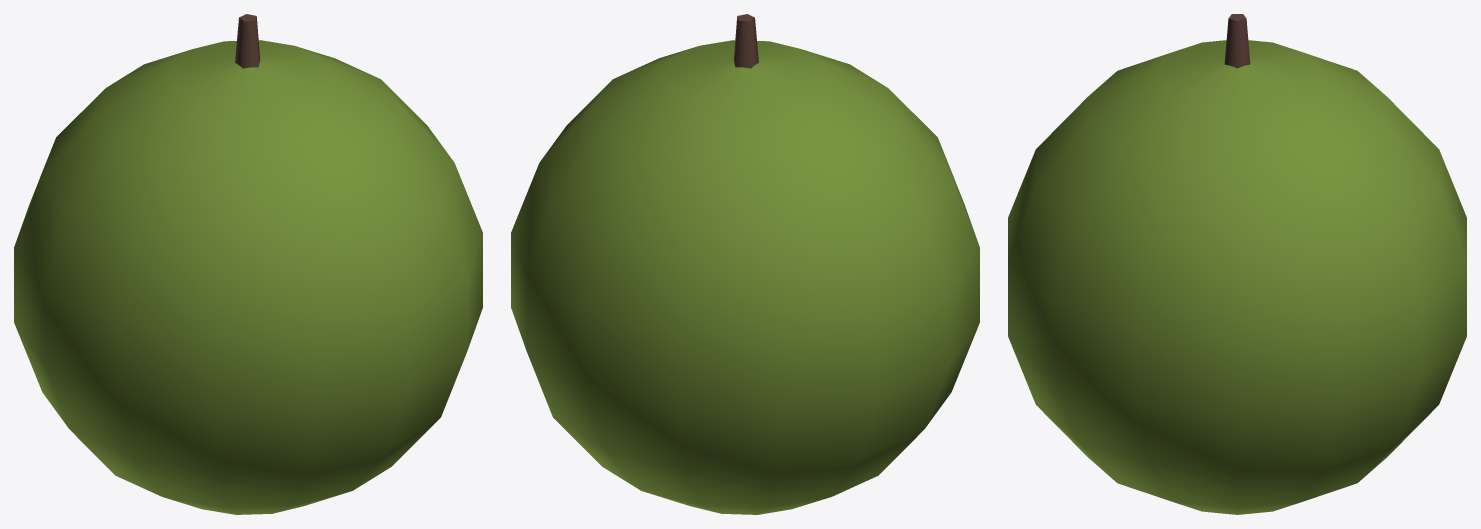
File: fruit-coconut-unripe.gltf
3 renders of one model, left to right at view 1: azimuth 30°, elevation 25°; view 2: azimuth 150°, elevation 25°; view 3: azimuth 270°, elevation 25°, orthographic.
Size of the model in its own units: 0.5515 by 0.616 by 0.5377.
